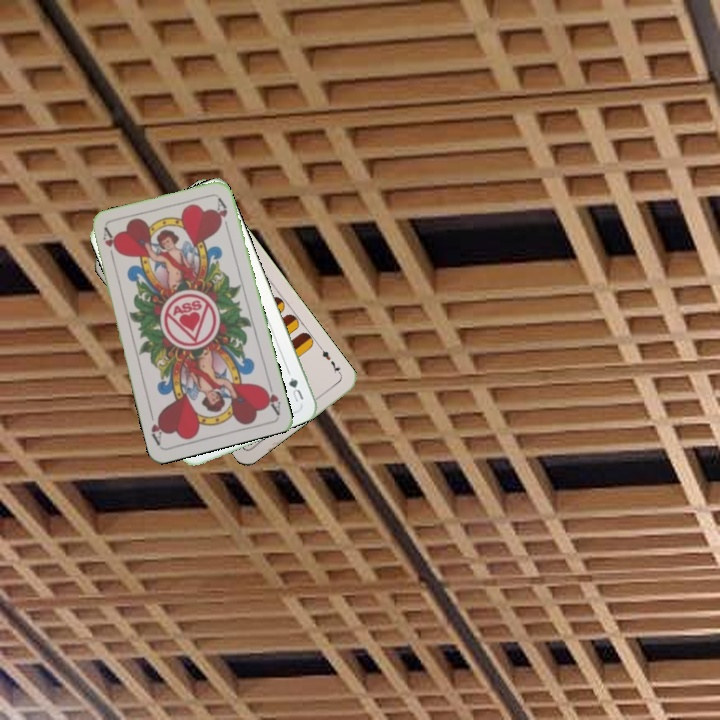E7: (315, 343, 344, 378)
GU: (285, 373, 306, 405)
HA: (259, 377, 283, 417), (99, 224, 119, 265)
